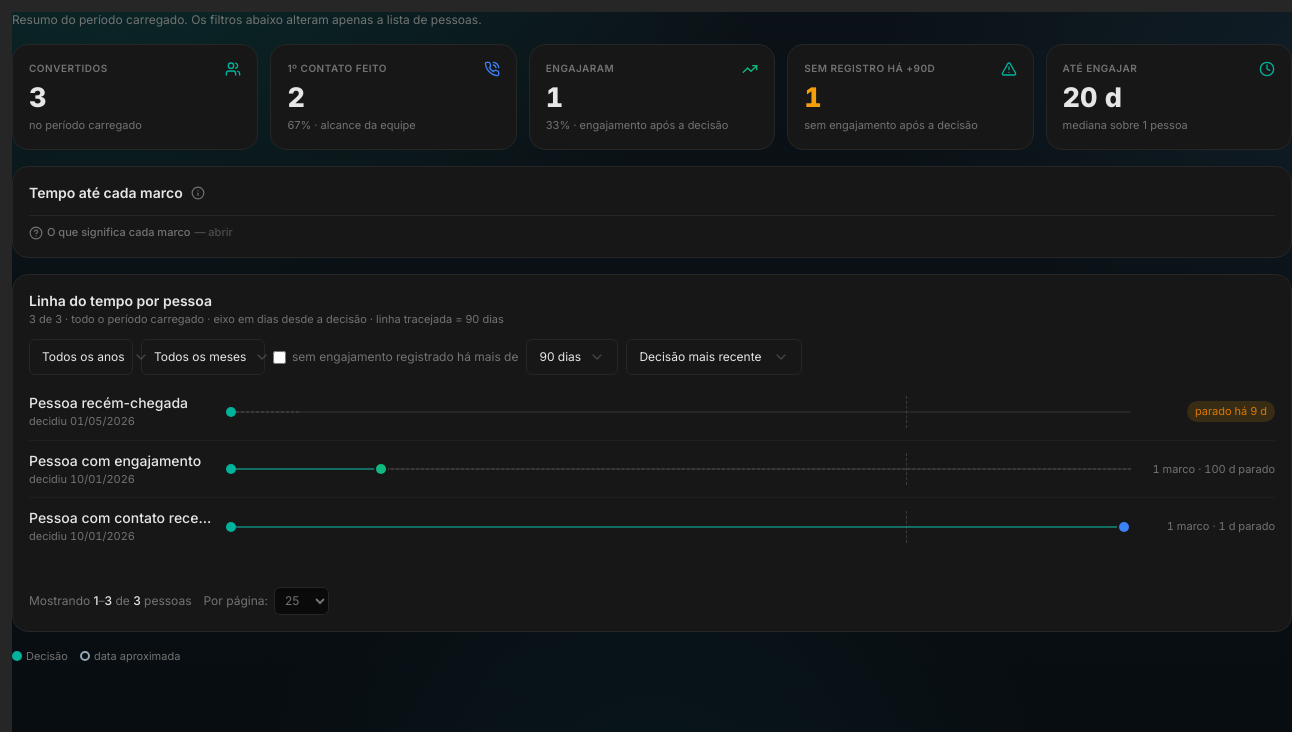
Test: JornadaTimeline · separa contato de engajamento › explica que os agregados cobrem o período e permite limpar o filtro
This screenshot has width=1292, height=732.
Expected: the text "Os filtros abaixo alteram apenas a lista" is shown, [12, 12, 482, 27]
Click the checkbox.
click(280, 357)  # box [273, 351, 286, 364]
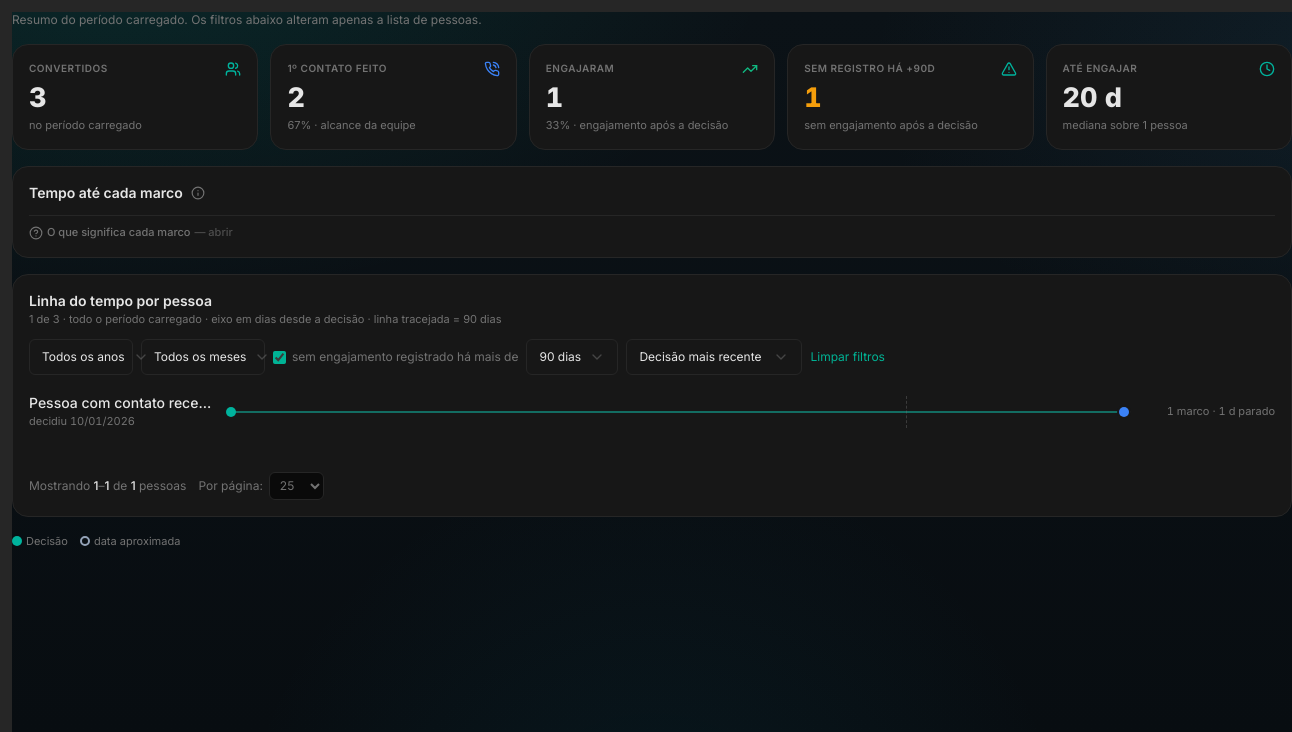
Click the button "Limpar filtros".
click(848, 357)  # box [810, 349, 885, 365]
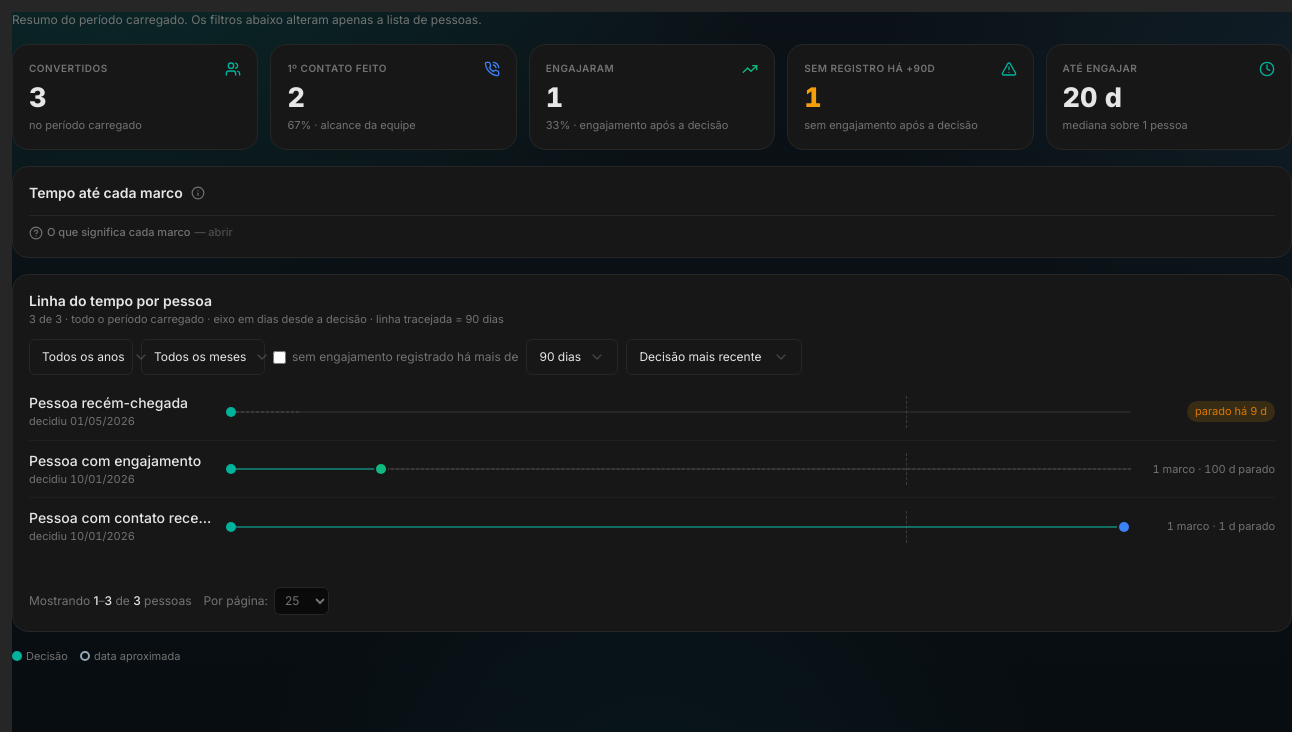
Expected: the text "Pessoa recém-chegada" is shown, [29, 394, 188, 411]
Expected: the text "Pessoa com engajamento" is shown, [29, 451, 219, 471]
